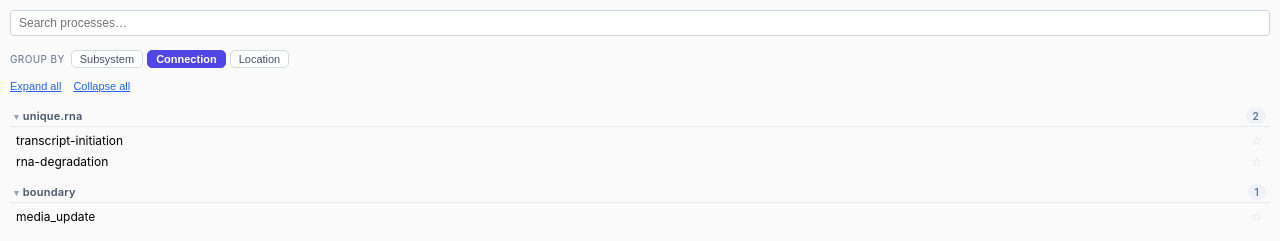
Test: ProcessRail › filters processes by the search box
Type "degrad" into the field with placeholder "Search processes…". click: (640, 23)
box: [10, 10, 1270, 36]
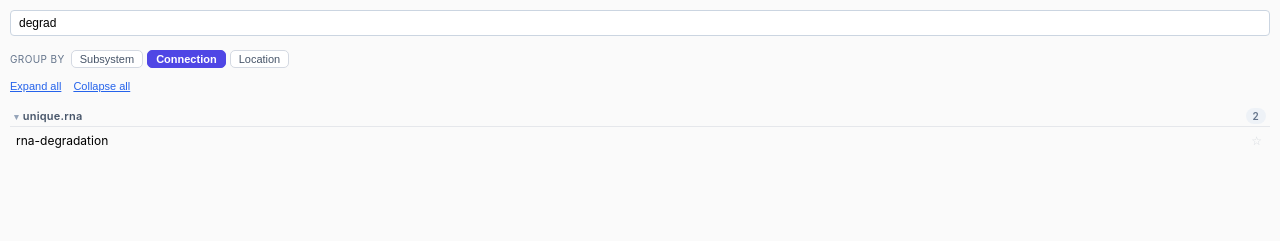
Expected: the text "rna-degradation" is shown, [16, 133, 108, 148]
Expected: the text "transcript-initiation" is gone
